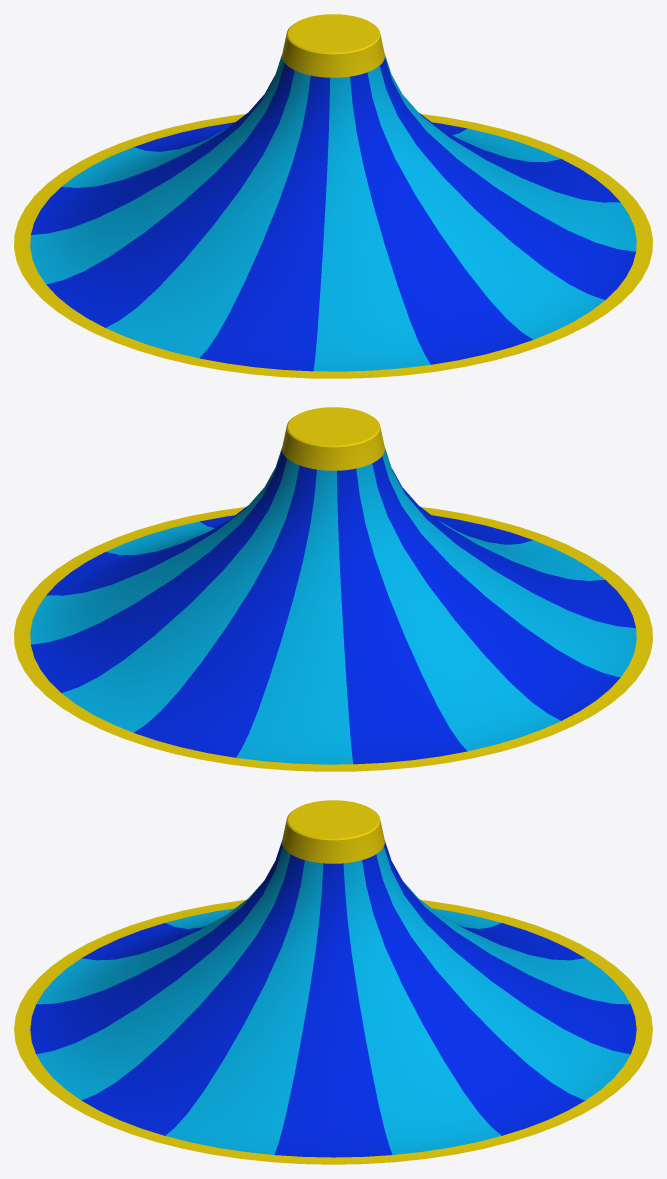
Rendered from ClimbingVolcano.fbx.
3 renders of one model, top to bottom at view 1: azimuth 30°, elevation 25°; view 2: azimuth 150°, elevation 25°; view 3: azimuth 270°, elevation 25°, orthographic.
Visible parts, largest first — view 1: SM_ClimbingVolcano; view 2: SM_ClimbingVolcano; view 3: SM_ClimbingVolcano.
Boxes of the visible parts, x1=… form: SM_ClimbingVolcano: x1=14, y1=14, x2=652, y2=378; SM_ClimbingVolcano: x1=14, y1=407, x2=652, y2=771; SM_ClimbingVolcano: x1=14, y1=800, x2=652, y2=1164.
Size of the model in its own units: 1267 by 460 by 1267.
